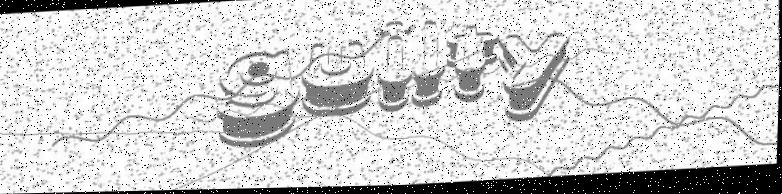g: (214, 44, 303, 148)
i: (374, 15, 415, 116), (409, 13, 448, 111)
t: (439, 23, 503, 103)
u: (289, 36, 378, 119)
y: (498, 27, 574, 123)
